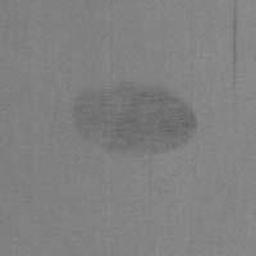Oil spot: (72, 81, 197, 154)
